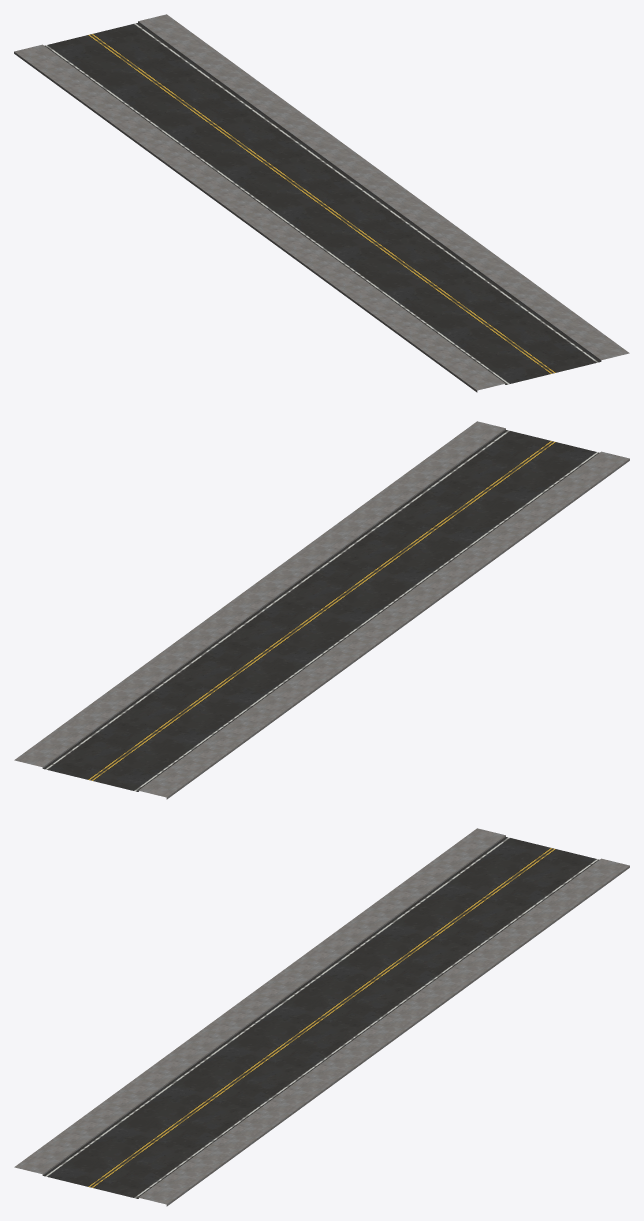
The model's file is road-seg-84.glb.
3 views of the same model, one above another, from view 1: azimuth 30°, elevation 25°; view 2: azimuth 150°, elevation 25°; view 3: azimuth 330°, elevation 25° (orthographic).
Visible parts, largest first — view 1: road-seg-84; view 2: road-seg-84; view 3: road-seg-84.
Part boxes in pixels (x1,y1,x2,y2): road-seg-84: (14, 14, 629, 392); road-seg-84: (14, 421, 629, 799); road-seg-84: (14, 828, 629, 1206).
Size of the model in its own units: 16 by 0.21 by 84.
2 materials, 2 textured.
